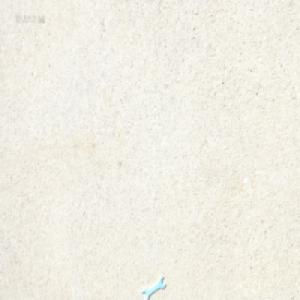Wrench: (142, 273, 166, 297)
